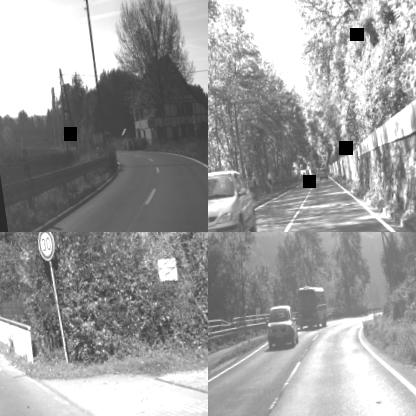bend left: (342, 102, 355, 120)
no overtaking (trucks): (348, 132, 357, 145)
priority at next intersection: (162, 115, 171, 127)
speed limit 30: (35, 232, 55, 261)
speed limit 70: (346, 119, 355, 132)
